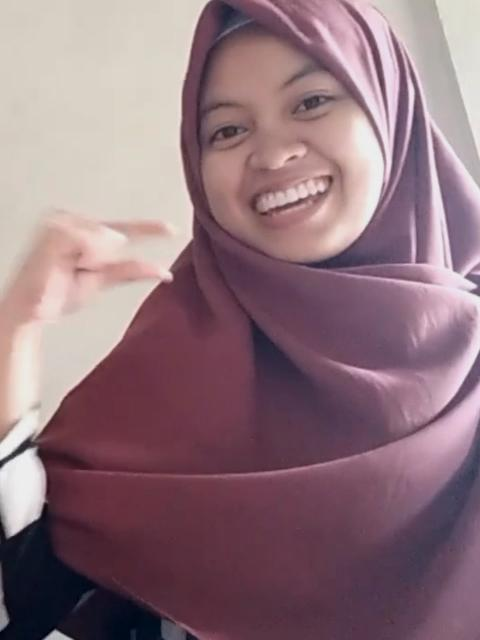G: (18, 198, 182, 320)
